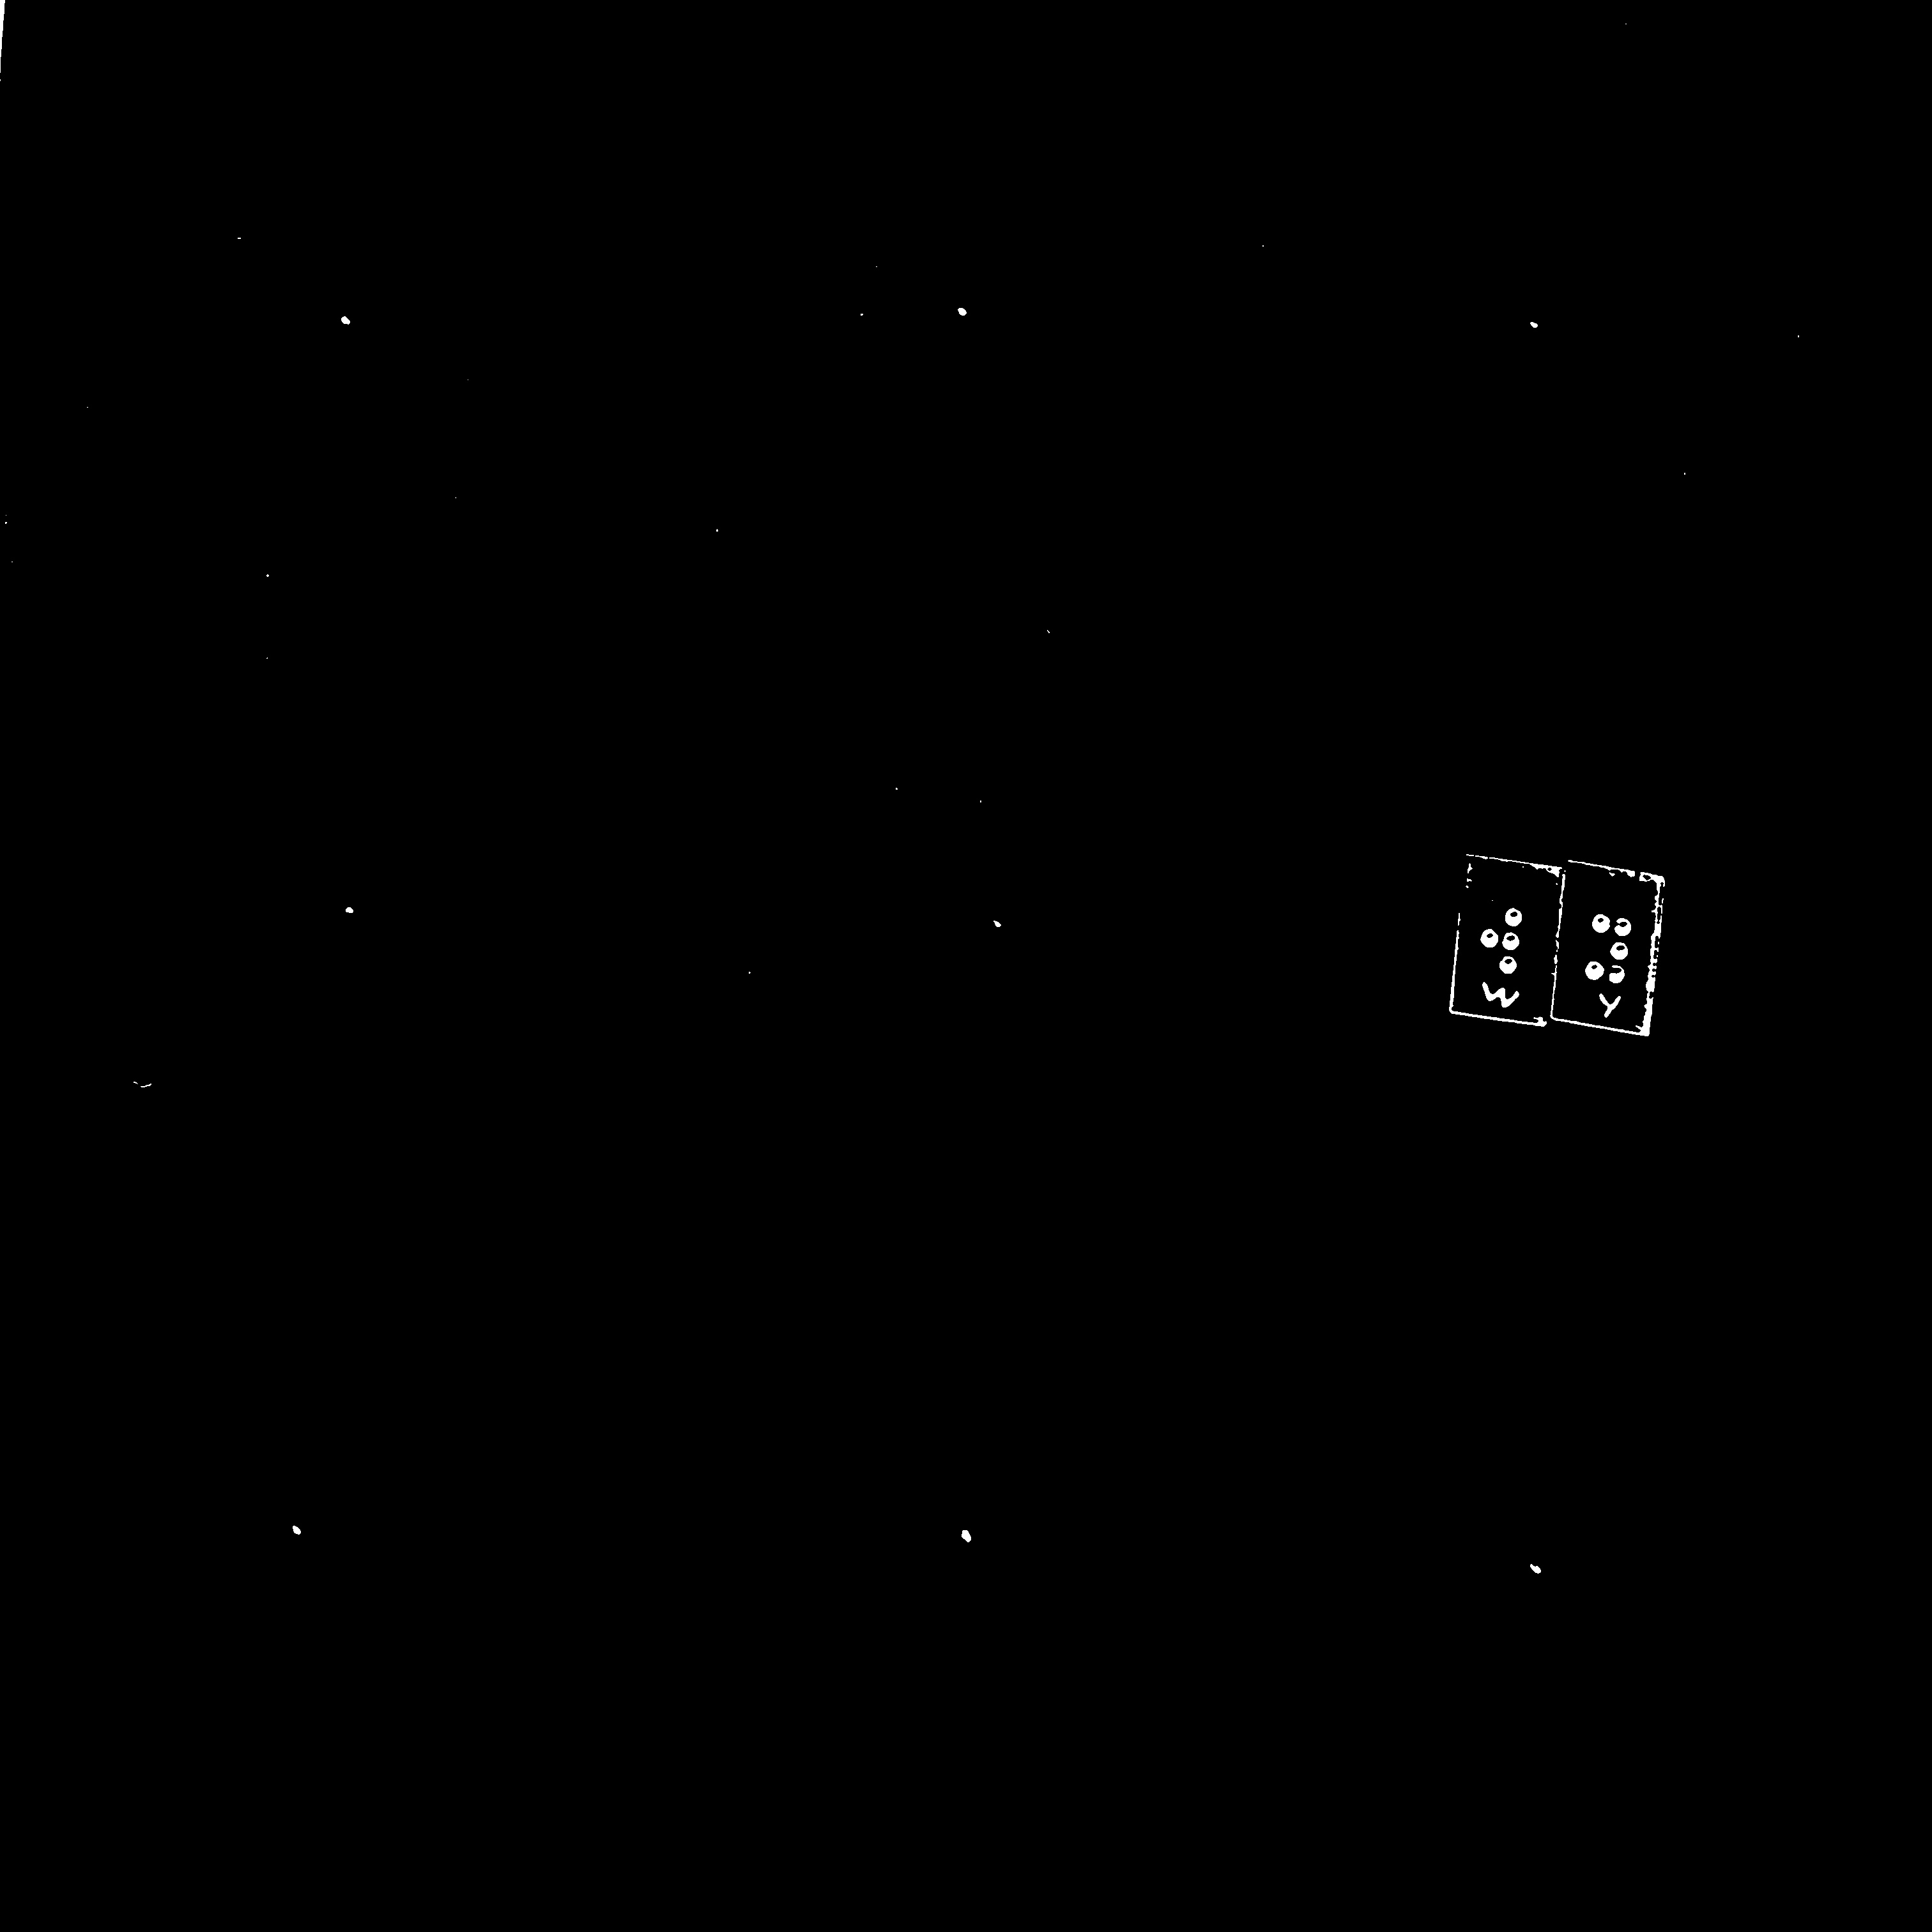w: (1476, 894, 1534, 993)
y: (1584, 896, 1642, 993)
